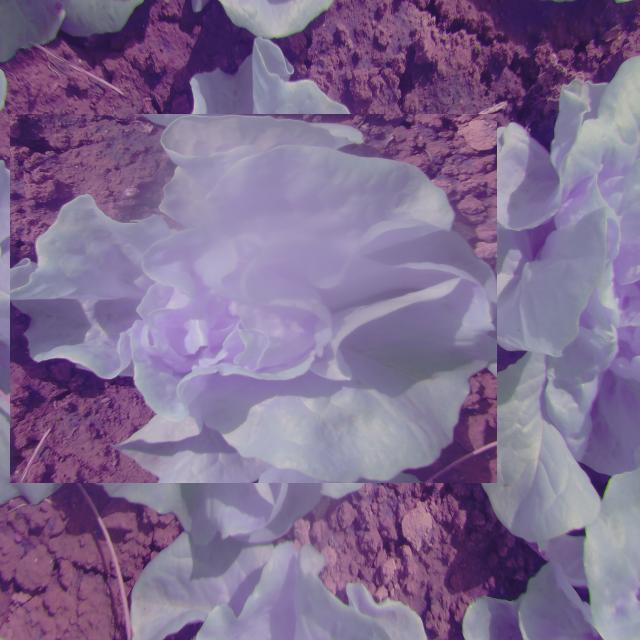vege: (39, 84, 468, 512)
